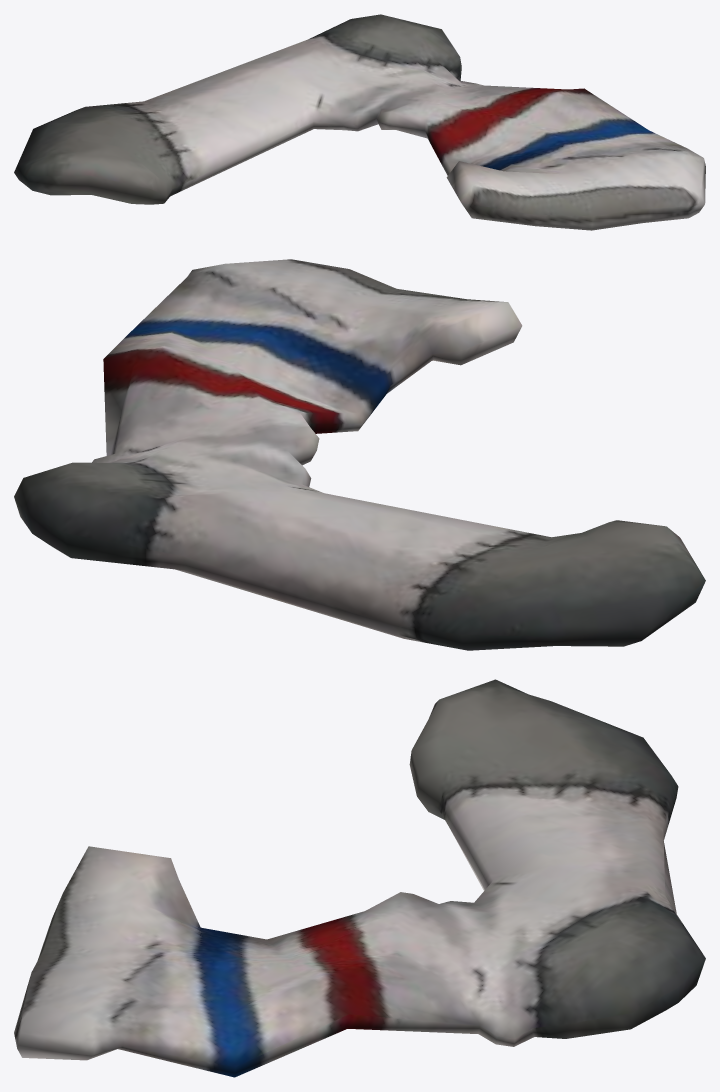
File: toy_sock_tube.glb
3 views of the same model, one above another, from view 1: azimuth 30°, elevation 25°; view 2: azimuth 150°, elevation 25°; view 3: azimuth 270°, elevation 25° (orthographic). The views are drawn at different scales.
Visible parts, largest first — view 1: toy_sock_tube; view 2: toy_sock_tube; view 3: toy_sock_tube.
Boxes of the visible parts, x1=… form: toy_sock_tube: x1=14, y1=14, x2=705, y2=230; toy_sock_tube: x1=14, y1=259, x2=705, y2=650; toy_sock_tube: x1=14, y1=679, x2=705, y2=1077.
Bounding box in the file's own units: 7.01 × 0.9795 × 5.82.
Materials: 1 (1 with a texture image).
